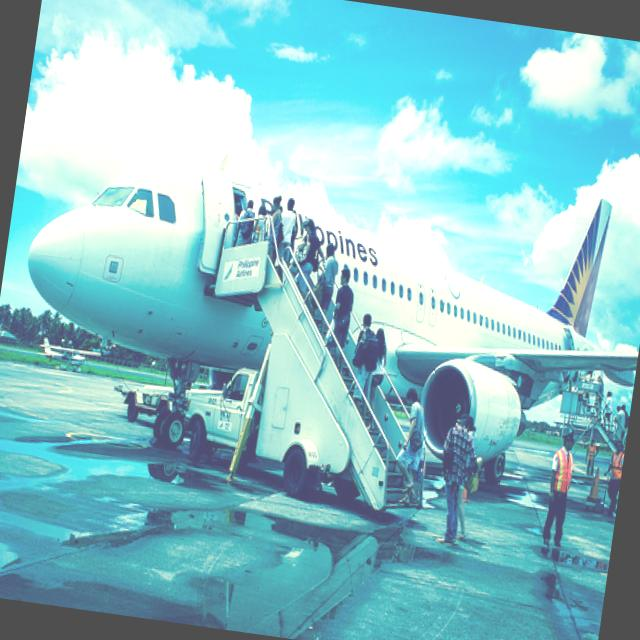Vehicle: (173, 321, 380, 508)
